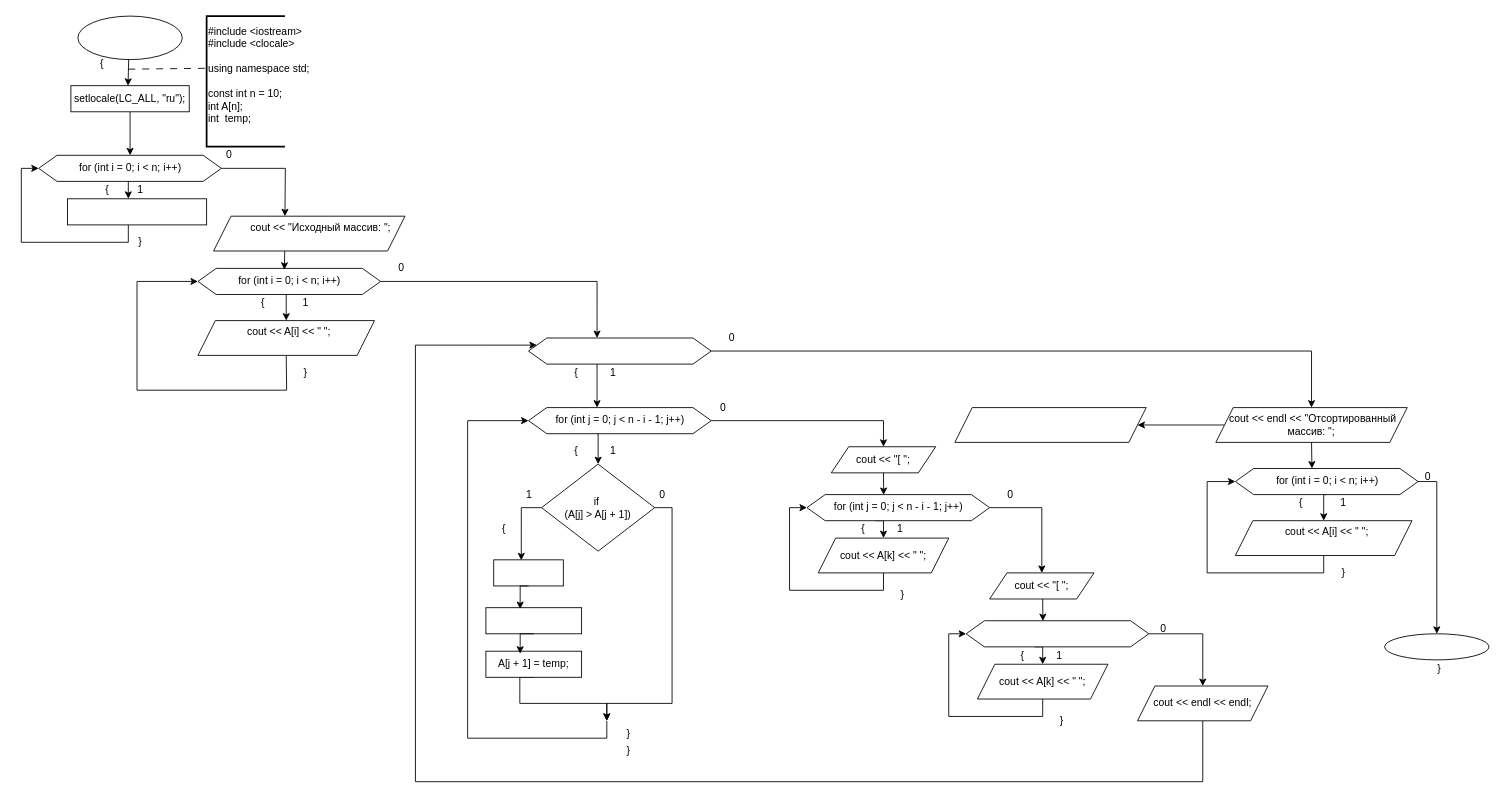
Some shapes in this 1504 by 804 pixel diagram are drawn without their labels. The centre of each missing label's shape, as x and y in pixels:
A[i] = rand () % 100 - 50;: [137,211]
A[j] = A[j + 1];: [533,620]
cout << endl << "Перевернутый массив: ";: [1050,424]
for (int i = 0; i < n - 1; i++): [619,350]
for (int k = n - i - 1; k < n; k++): [1057,633]
int main(): [129,37]
return 0;: [1436,646]
temp = A[j];: [528,572]
